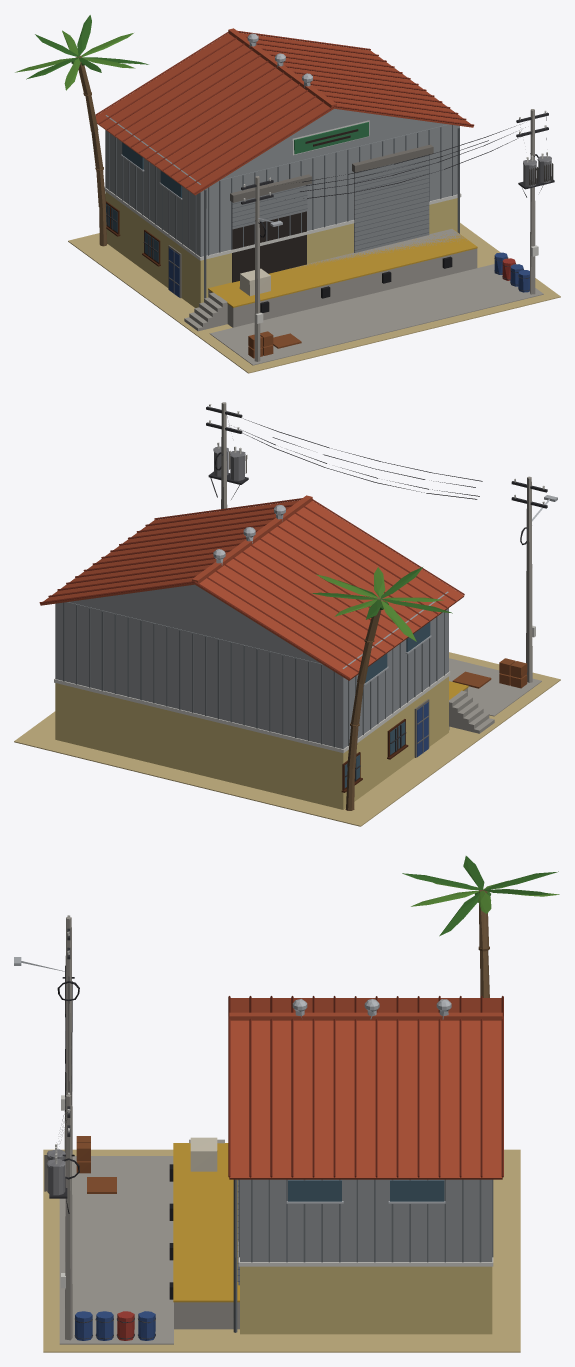
Rendered from factory_2.glb.
3 views of the same model, one above another, from view 1: azimuth 30°, elevation 25°; view 2: azimuth 150°, elevation 25°; view 3: azimuth 270°, elevation 25° (orthographic). The views are drawn at different scales.
Parts seen in each view (by area): view 1: body, windows; view 2: body, windows; view 3: body, windows.
Part boxes in pixels (<box>): body: <box>15,15,560,373</box>; windows: <box>106,142,306,282</box>; body: <box>14,402,560,826</box>; windows: <box>344,622,430,787</box>; body: <box>14,856,559,1352</box>; windows: <box>288,1180,444,1201</box>.
Bounding box in the file's own units: 19.11 × 10.28 × 18.21.
